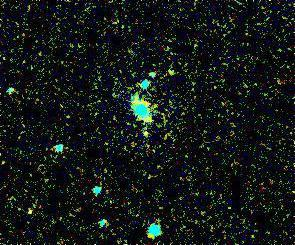star: (156, 56, 186, 86)
